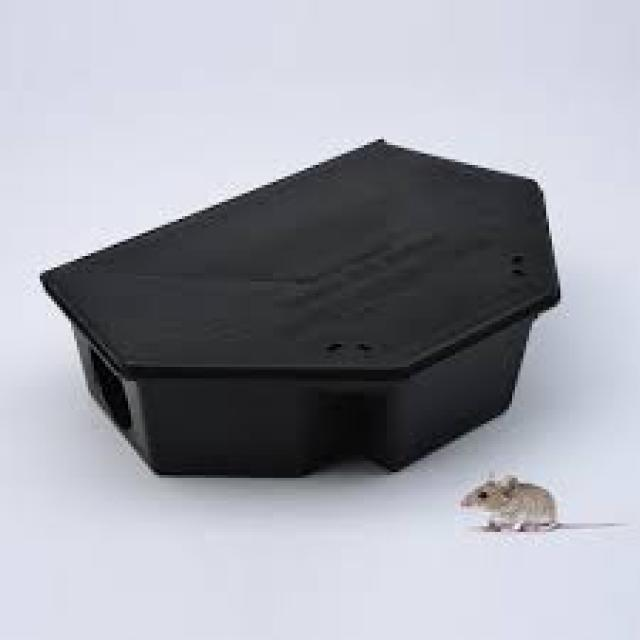rat: (458, 472, 557, 532)
